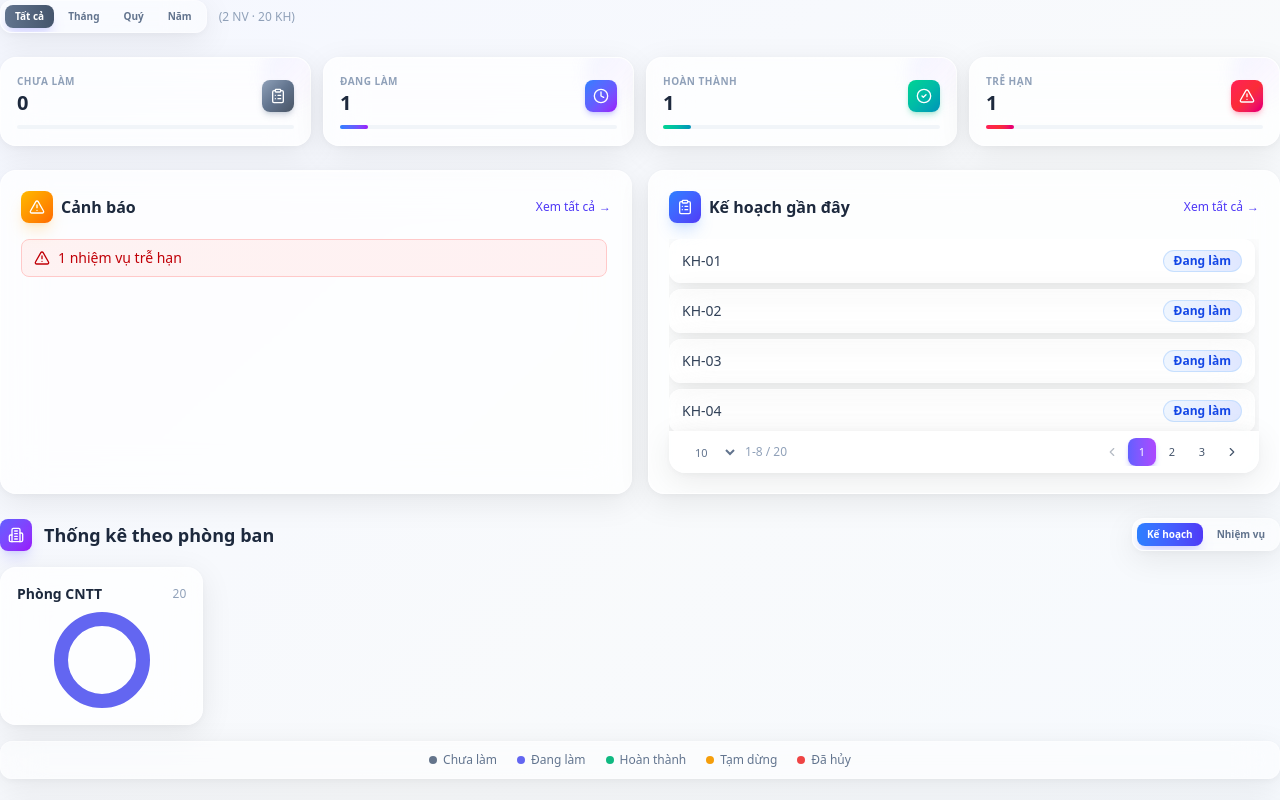
DashboardPage — pagination reset (render-time reset) › keeps the current page when the data count is unchanged
Click the button "2" at (1172, 452), box x1=1158 y1=438 x2=1186 y2=466
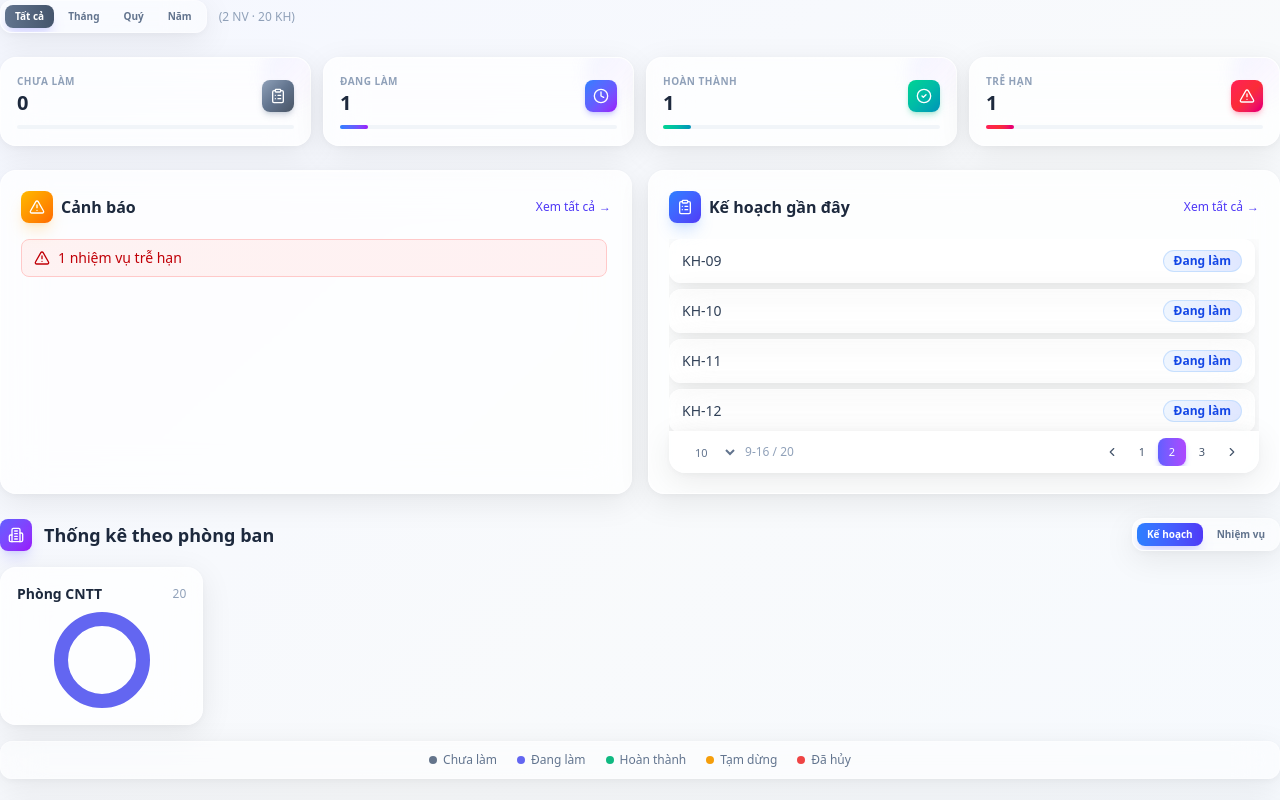
Expected: the text "9-16 / 20" is shown, x1=745 y1=444 x2=794 y2=460
